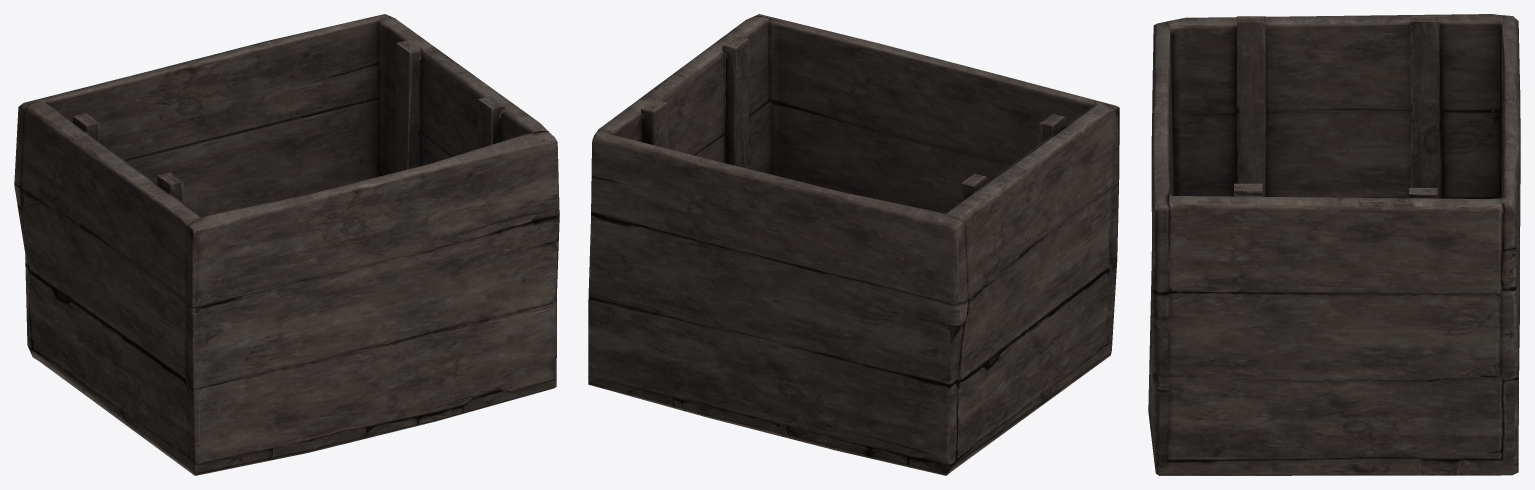
The model's file is SM_Crate.fbx.
3 renders of one model, left to right at view 1: azimuth 30°, elevation 25°; view 2: azimuth 150°, elevation 25°; view 3: azimuth 270°, elevation 25°, orthographic. The views are drawn at different scales.
Parts seen in each view (by area): view 1: SM_Crate; view 2: SM_Crate; view 3: SM_Crate.
Boxes of the visible parts, <box> form: SM_Crate: <box>14,14,559,475</box>; SM_Crate: <box>588,14,1119,475</box>; SM_Crate: <box>1148,14,1520,475</box>.
Bounding box in the file's own units: 82.68 × 65.7 × 55.26.
